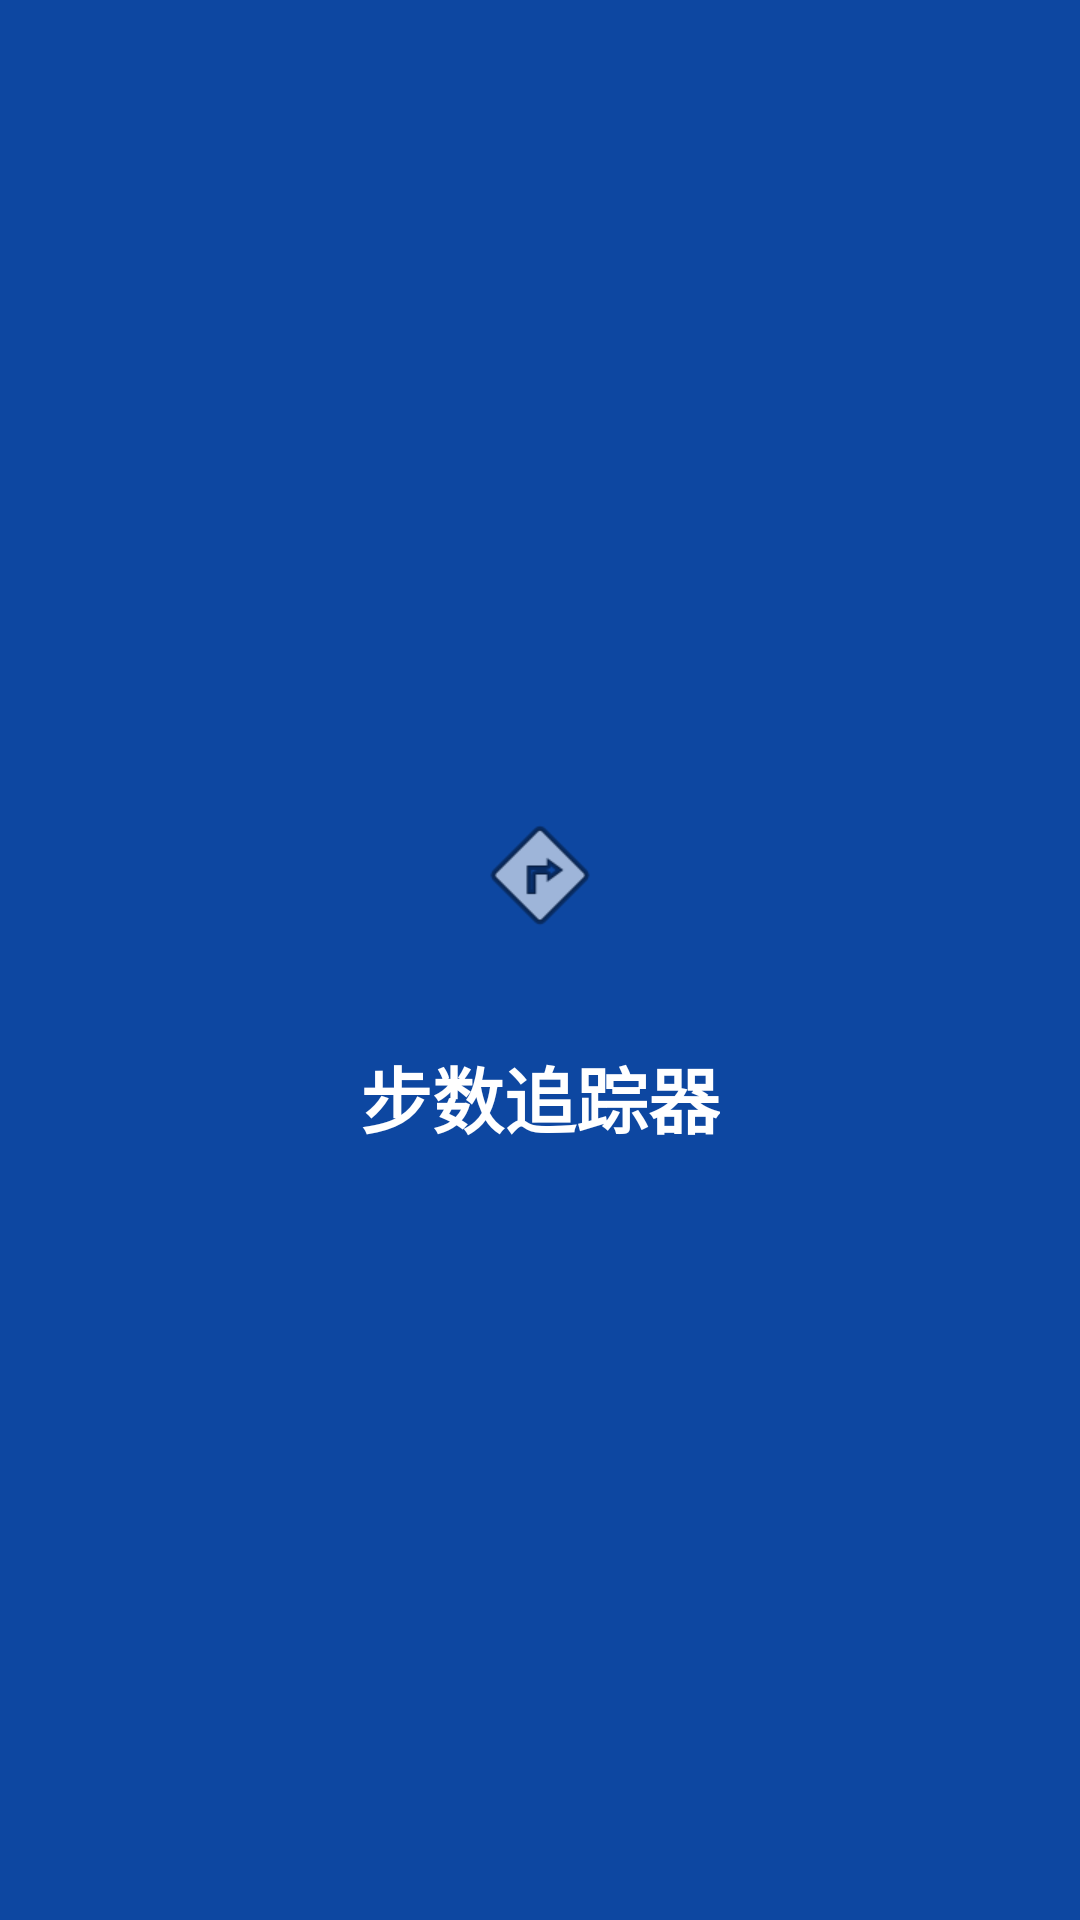

Point at icon controls on the screen. Image size 1080x1920, points as [x,y].
directions: [540,875]
